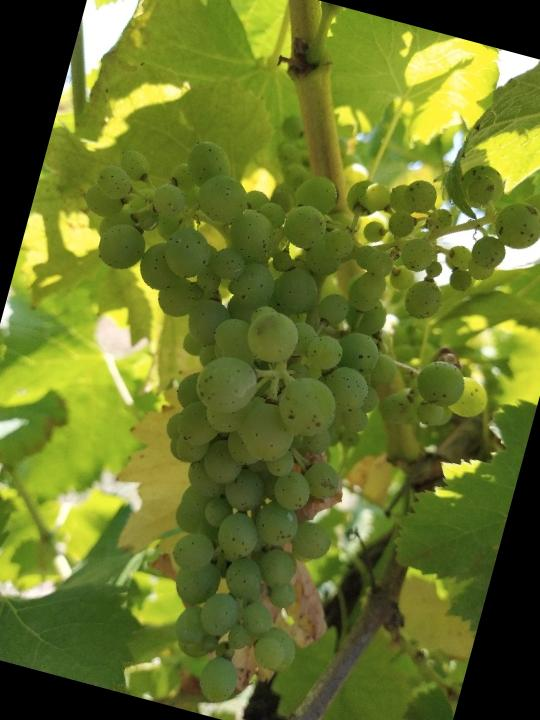grape: (0, 68, 540, 720)
